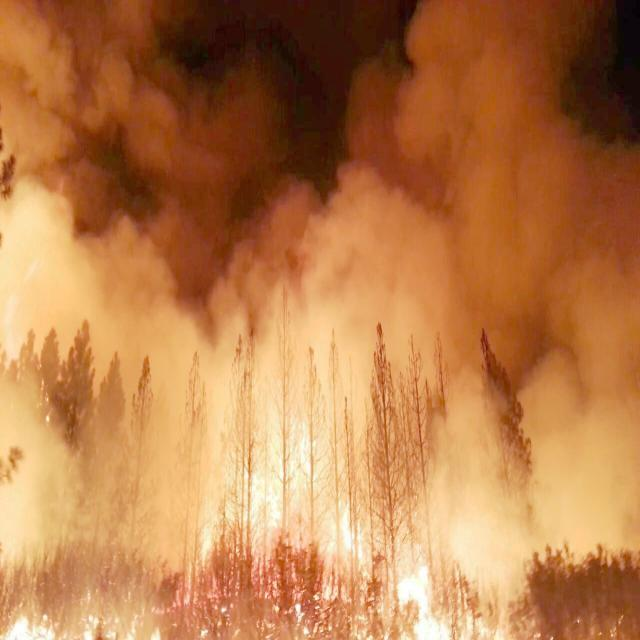api: (394, 565, 461, 640), (241, 453, 289, 532), (325, 492, 371, 574), (286, 418, 325, 491), (1, 605, 64, 640), (199, 515, 218, 575), (144, 620, 167, 640)
asap: (235, 1, 640, 526), (1, 1, 271, 594), (420, 225, 640, 591)
